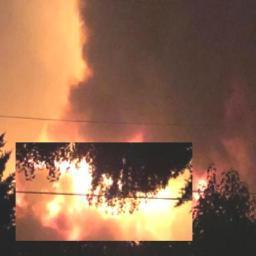Heavy smoke: (21, 3, 229, 139)
Large fire: (16, 143, 192, 242)
